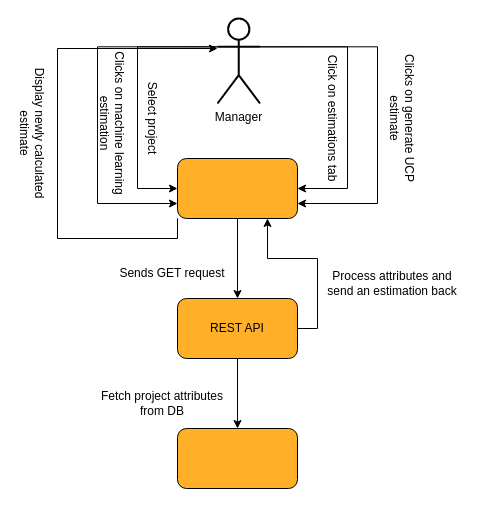
Image size: 484x506. Some labels were removed from this diagram. The shapes that lost their labels are listed below. From the top down, each one's centre as x and y in pixels, then its label:
(x=237, y=188): Frontend
(x=237, y=458): Database
